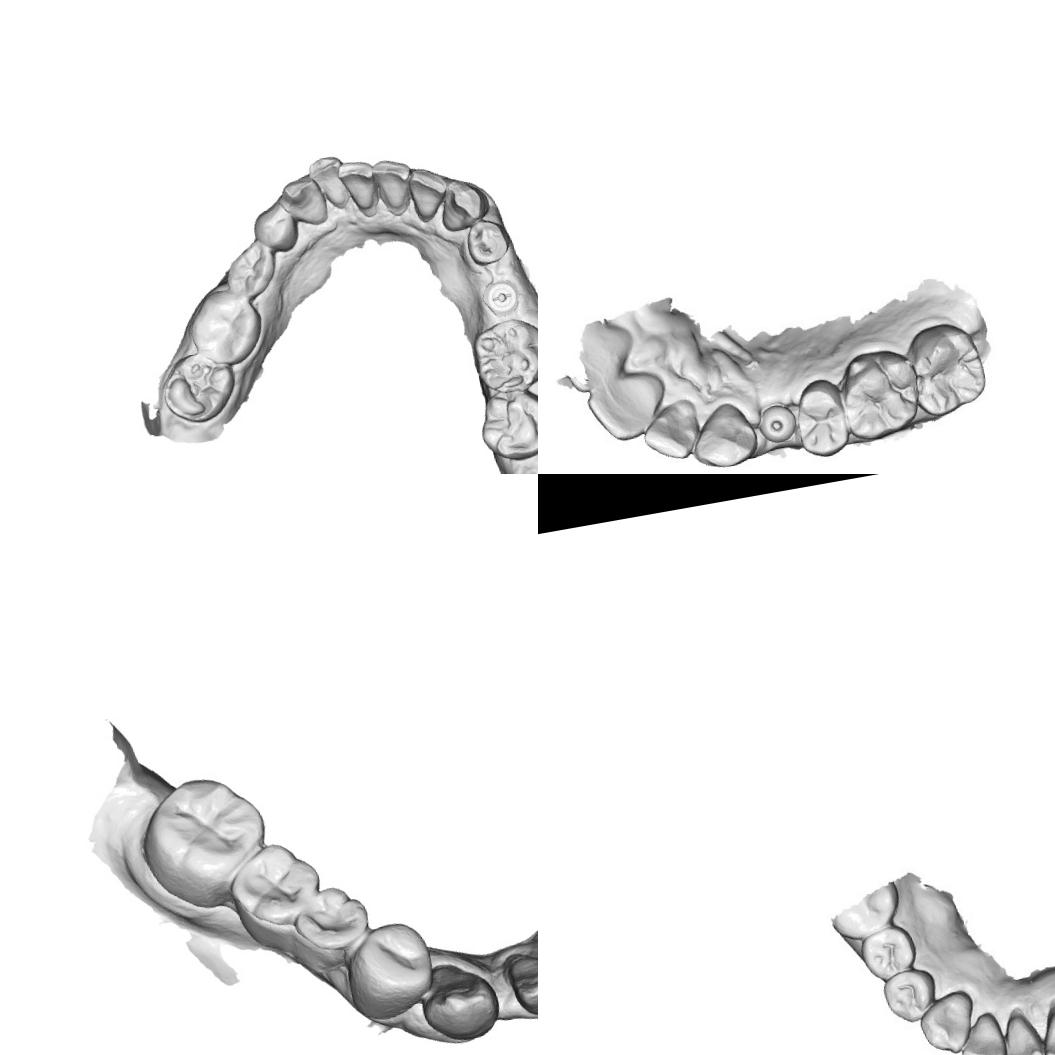canine: (414, 955, 504, 1046), (685, 397, 759, 474), (911, 987, 979, 1055), (433, 172, 493, 233), (275, 174, 331, 232)
implant: (478, 274, 522, 320), (755, 398, 798, 444)
incisor: (582, 368, 666, 447), (637, 399, 708, 466), (368, 154, 417, 214), (404, 162, 452, 222), (304, 152, 349, 214), (334, 155, 381, 214), (955, 1008, 1012, 1055), (504, 943, 538, 1020), (992, 1008, 1047, 1055), (1036, 1005, 1055, 1055)
molar: (133, 766, 275, 908), (223, 836, 328, 945), (898, 314, 994, 421), (830, 342, 926, 443), (182, 282, 268, 371), (155, 346, 243, 429), (466, 312, 538, 398), (473, 383, 538, 466)
premolar: (340, 916, 438, 1022), (284, 879, 379, 973), (788, 374, 850, 461), (216, 236, 281, 302), (856, 918, 917, 984), (883, 966, 940, 1022), (243, 201, 302, 254), (460, 214, 513, 268)
